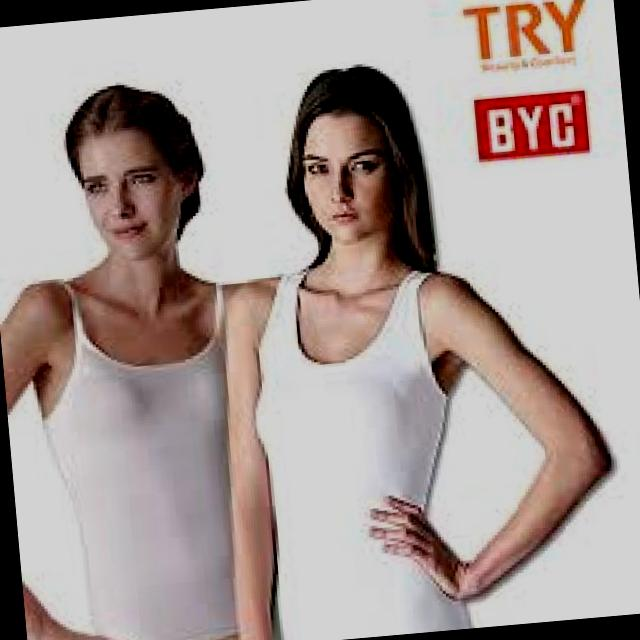no_vest: (27, 257, 265, 640), (242, 254, 472, 640)
